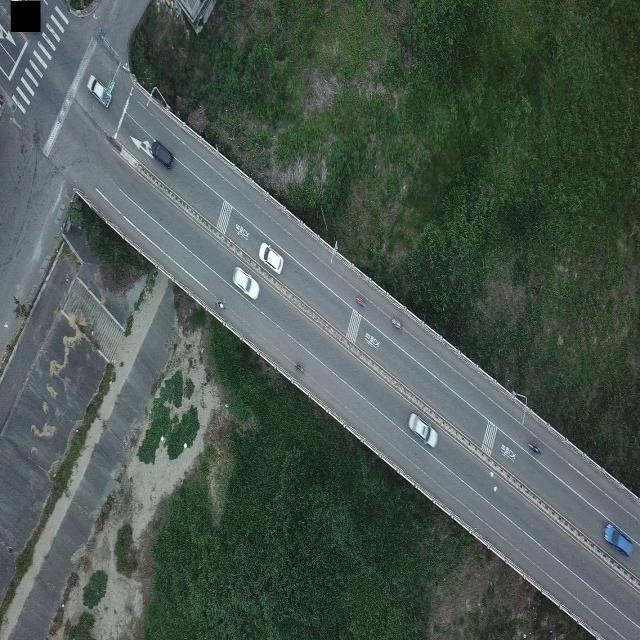bike: (526, 434, 543, 462), (387, 310, 404, 334), (355, 291, 368, 310), (292, 358, 306, 375), (214, 296, 226, 311)
car: (408, 412, 438, 448), (604, 522, 634, 557), (232, 266, 259, 301), (258, 241, 282, 275), (87, 74, 110, 107), (150, 138, 173, 168)
